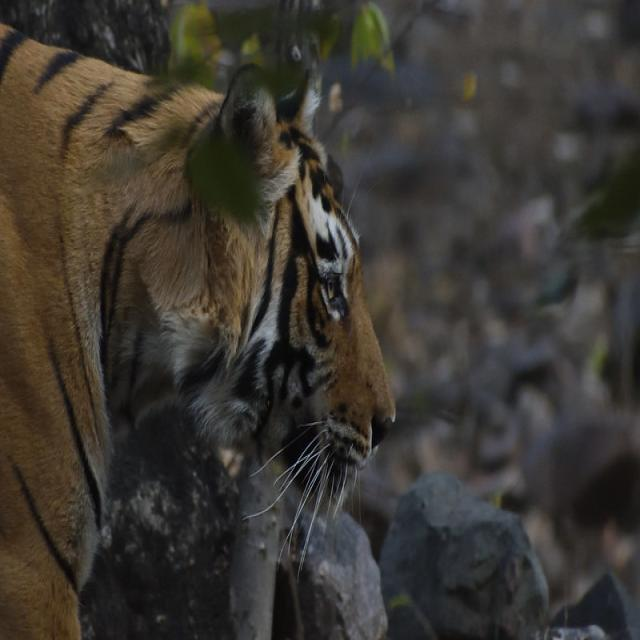Tiger: (3, 14, 410, 616)
